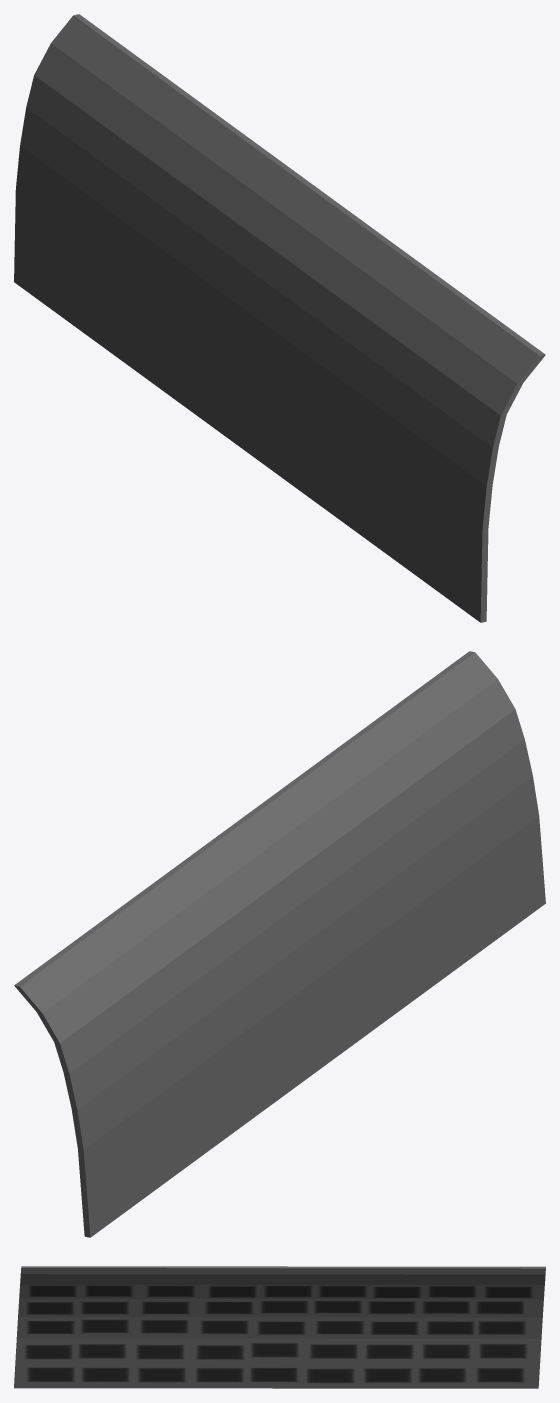
The model's file is load_wall.fbx.
The picture shows the model from 3 angles, top to bottom: view 1: azimuth 30°, elevation 25°; view 2: azimuth 150°, elevation 25°; view 3: azimuth 270°, elevation 25°; orthographic projection. The views are drawn at different scales.
Parts seen in each view (by area): view 1: 円柱; view 2: 円柱; view 3: 円柱.
Boxes of the visible parts, left/top/right/bottom form: 円柱: left=14, top=14, right=545, bottom=622; 円柱: left=14, top=651, right=545, bottom=1237; 円柱: left=14, top=1266, right=545, bottom=1388.
Bounding box in the file's own units: 124 × 409 × 1419.
